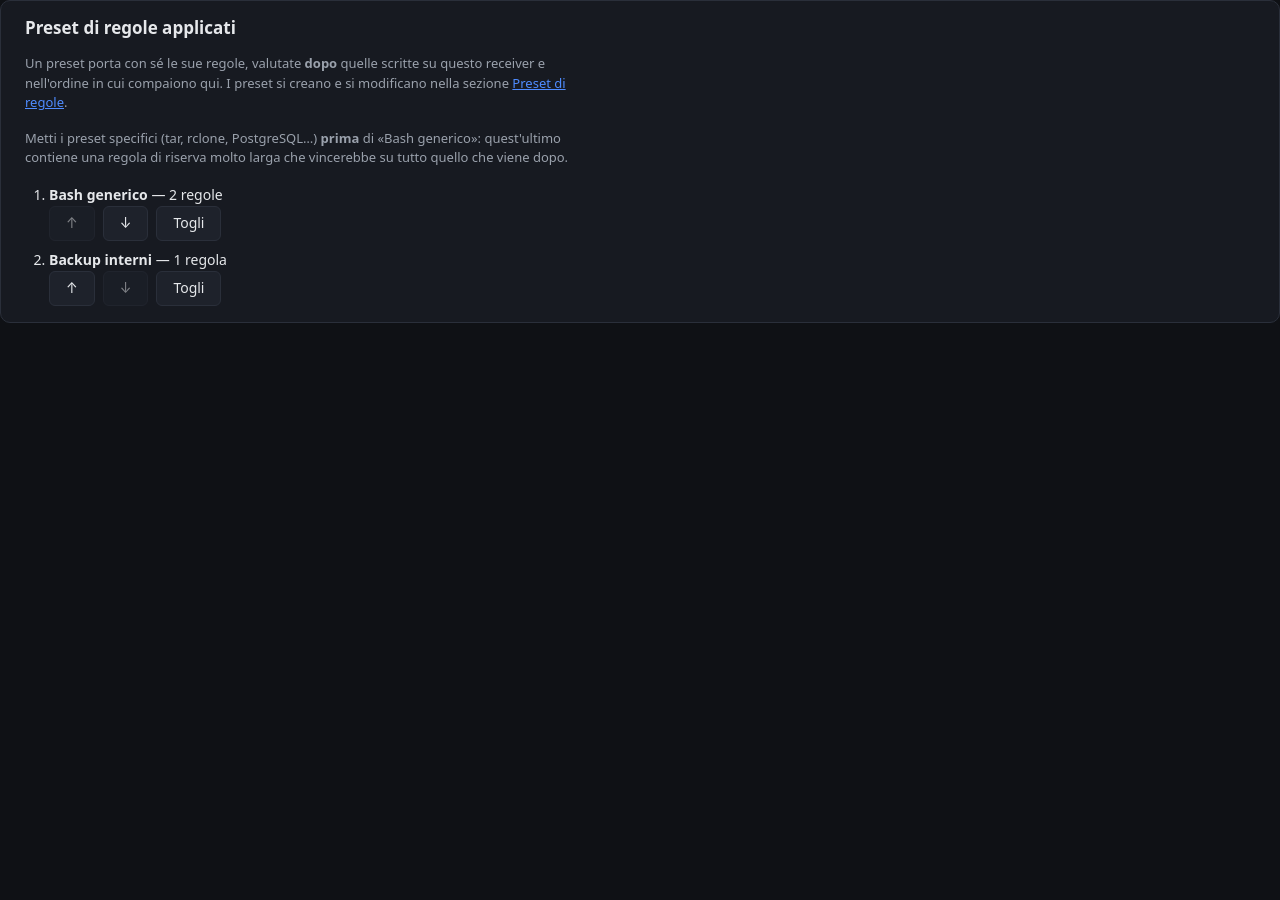
it: ReceiverPresetsPanel › se la lettura fresca fallisce non parte nessun elenco, e il motivo si vede
The width and height of the screenshot is (1280, 900).
Click the button named "Sposta giù Bash generico" at (126, 224), box x1=103 y1=206 x2=148 y2=241
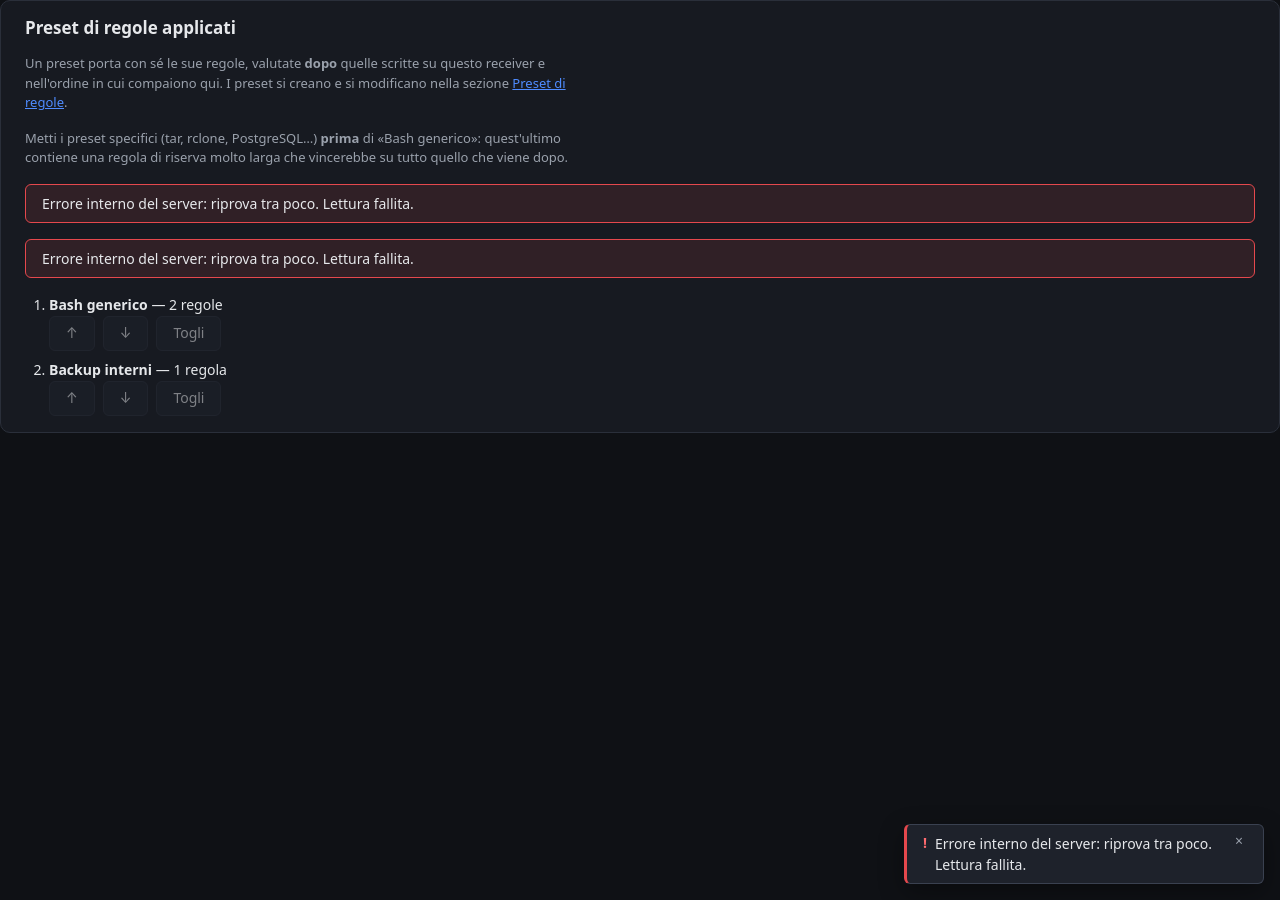
Result: the 1st text "Lettura fallita." is shown at x1=319 y1=194 x2=414 y2=213
